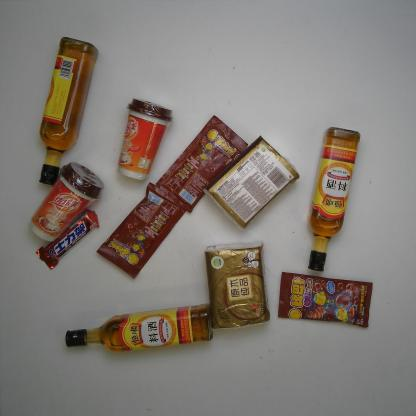Candy: (154, 113, 249, 216), (96, 180, 187, 280), (276, 270, 374, 330)
Chocolate: (35, 205, 98, 273)
Instant Drink: (27, 160, 105, 243), (115, 95, 175, 182)
Seasoner: (37, 35, 99, 187), (306, 126, 361, 272), (64, 302, 214, 354)
Tissue: (202, 134, 300, 232), (204, 239, 271, 330)
